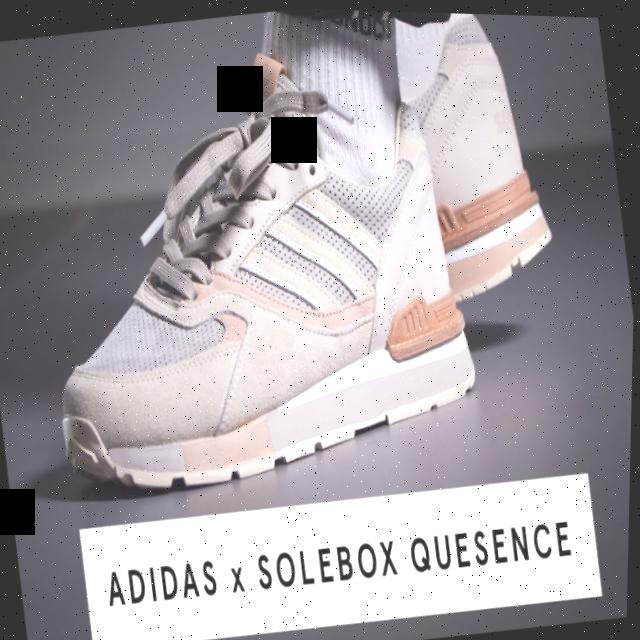shoes: (4, 12, 500, 528), (392, 9, 573, 310)
